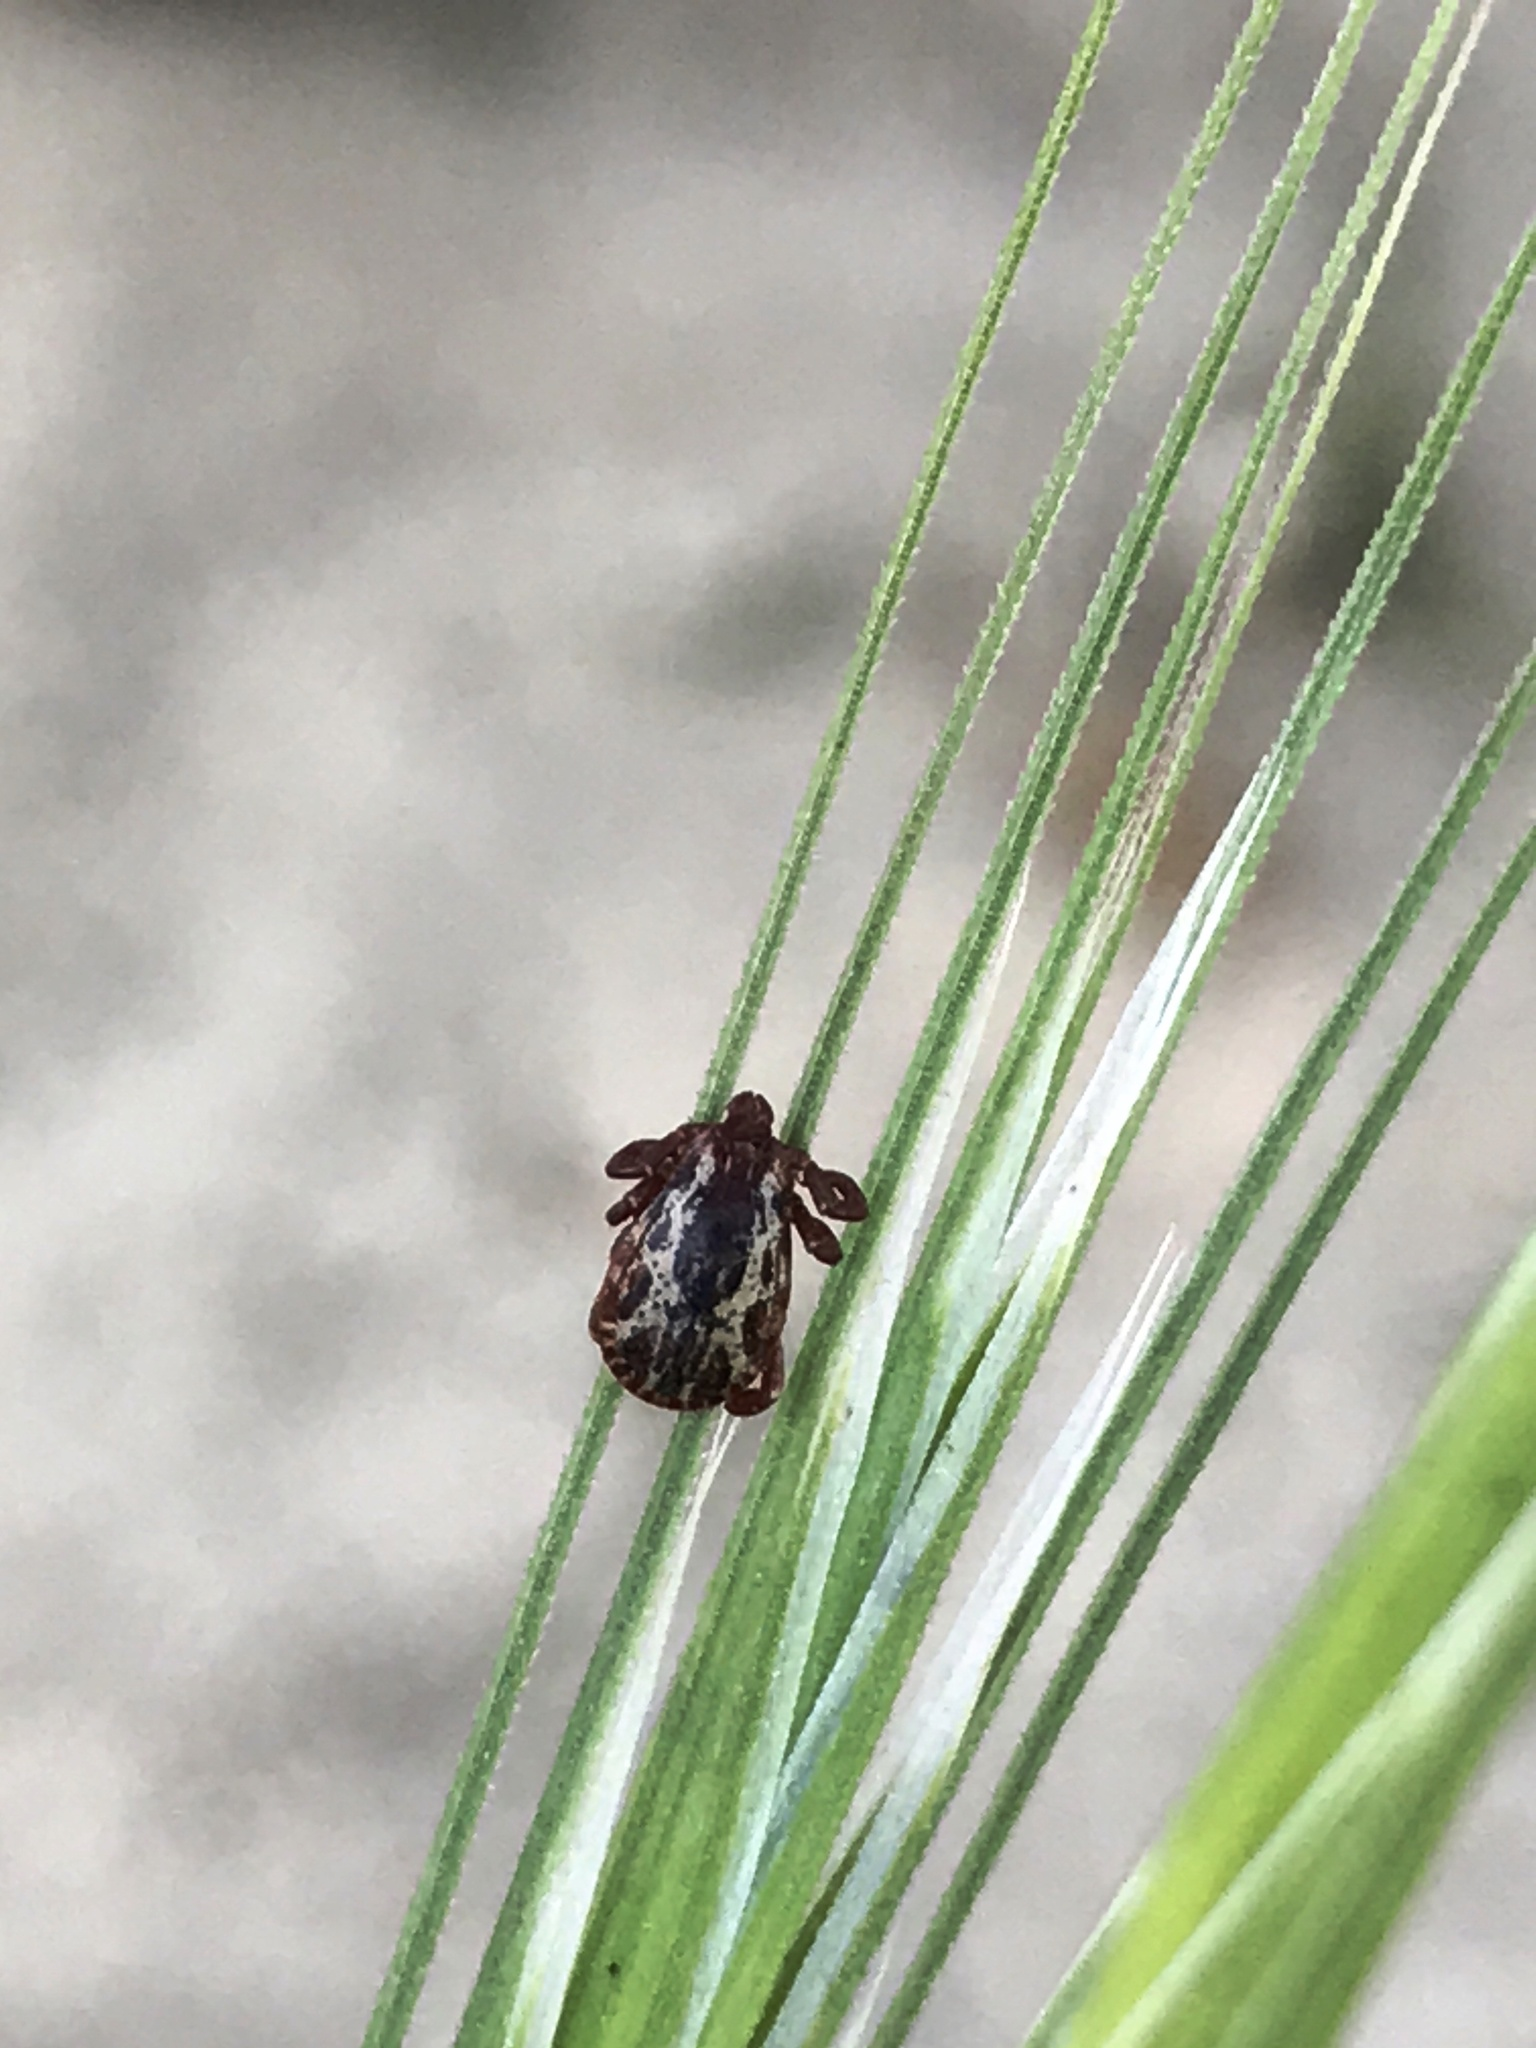garrapata: (547, 1063, 886, 1447)
